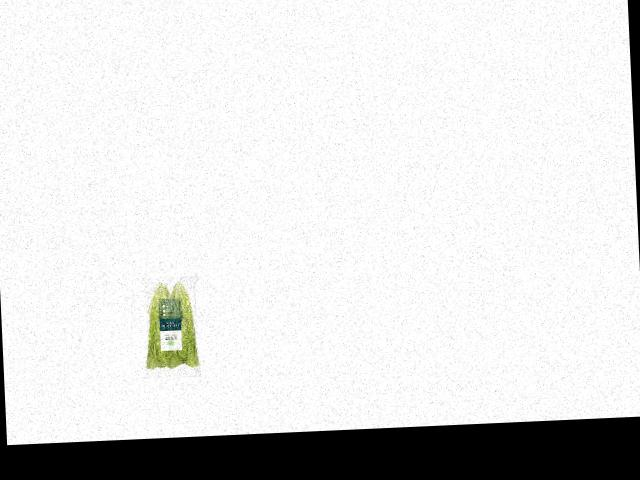lettuce: (142, 279, 206, 372)
